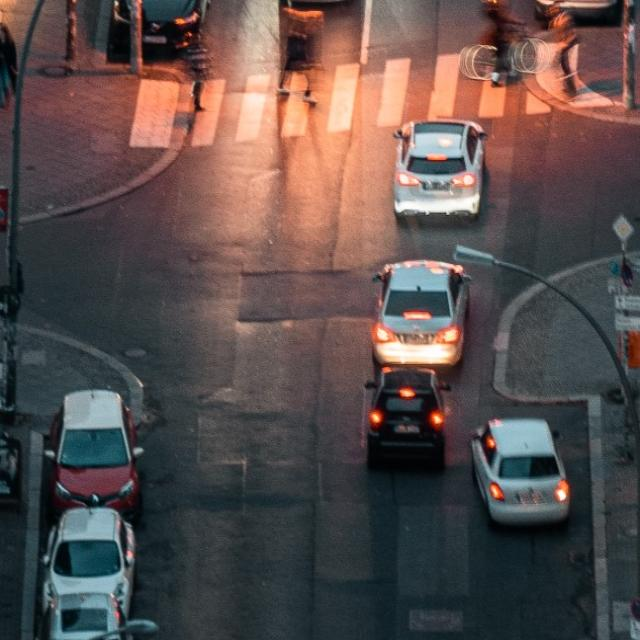car: (46, 388, 144, 517), (469, 417, 573, 526), (41, 506, 137, 622), (372, 259, 472, 369), (394, 117, 486, 227), (362, 367, 450, 472), (110, 0, 212, 57)
